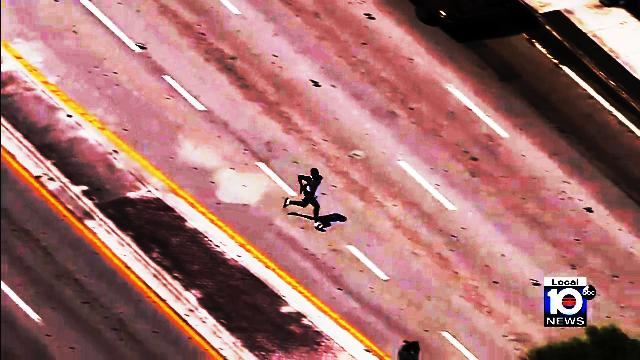berlari: (282, 162, 332, 229)
